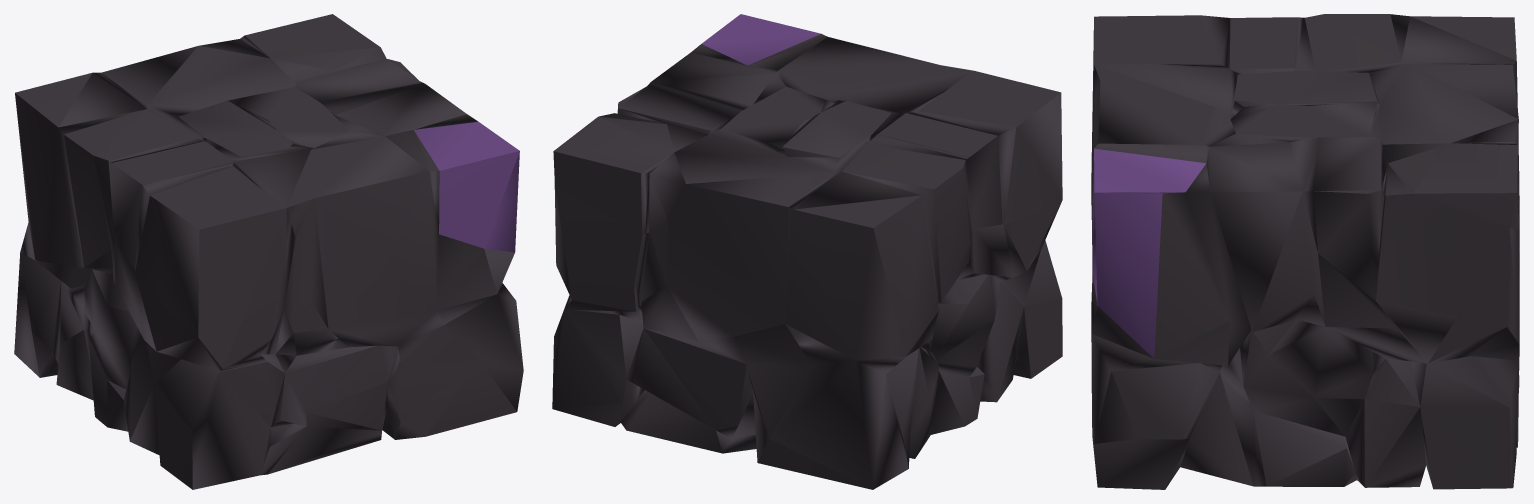
Rendered from cover_half_caves_v1_lod1.glb.
The picture shows the model from 3 angles, left to right: view 1: azimuth 30°, elevation 25°; view 2: azimuth 150°, elevation 25°; view 3: azimuth 270°, elevation 25°; orthographic projection. The views are drawn at different scales.
Size of the model in its own units: 0.9994 by 0.7615 by 0.9993.
